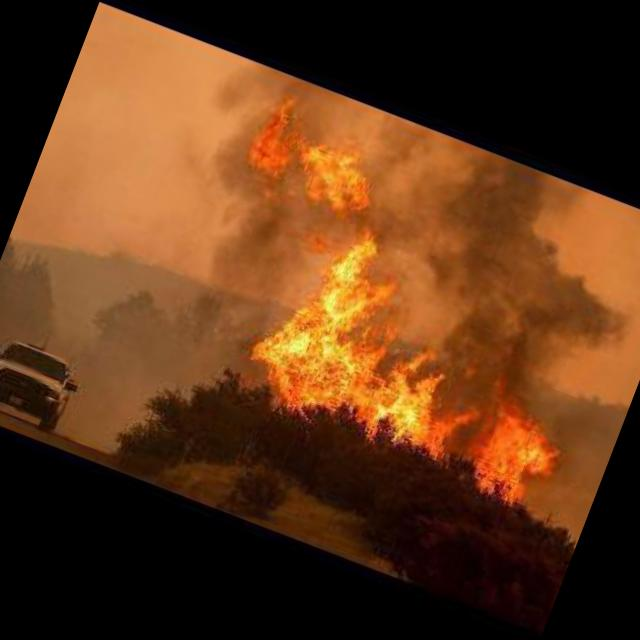fire: (170, 75, 556, 461), (455, 392, 567, 507)
smoke: (372, 136, 640, 436), (158, 154, 330, 362)
